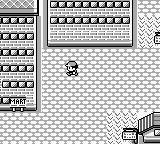leer: (123, 128, 138, 143), (155, 32, 159, 47)
main: (65, 62, 78, 75)
no-caminable: (0, 0, 37, 111), (48, 0, 133, 46), (139, 112, 159, 143)
